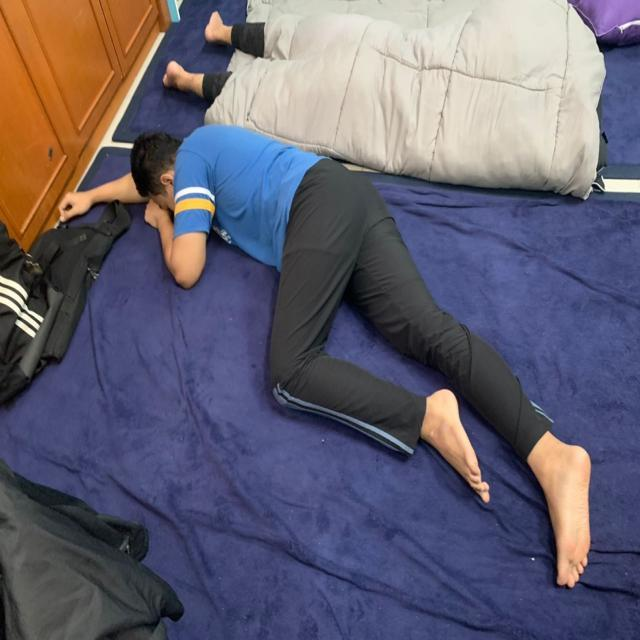fall: (53, 127, 592, 592)
